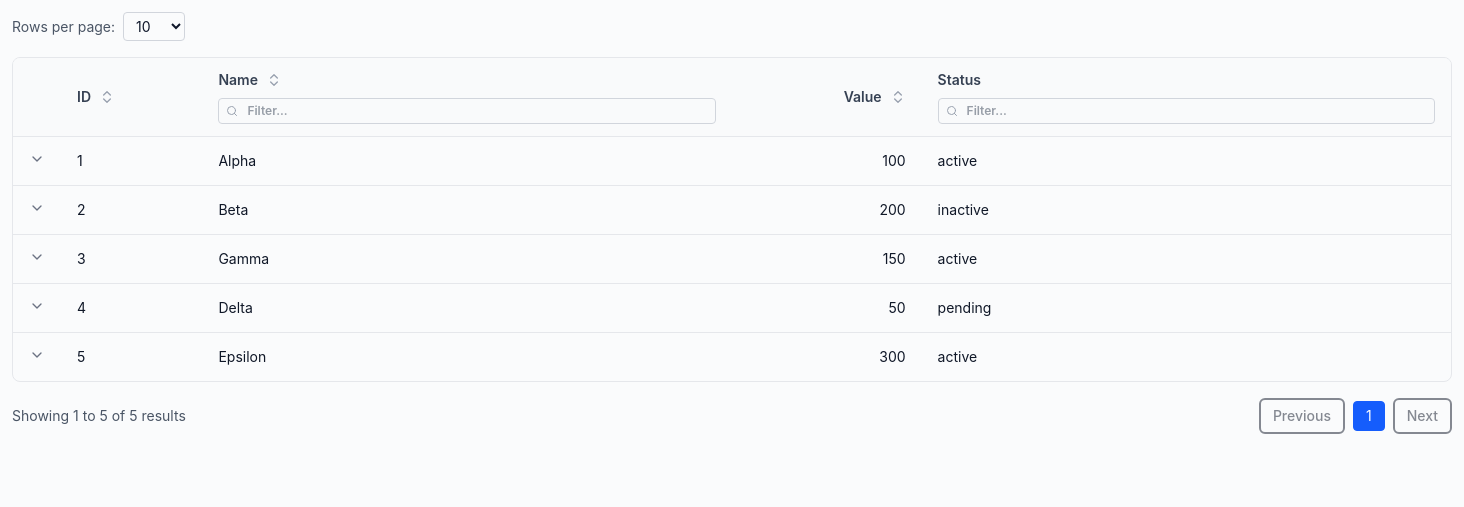
DataTable › Row Expansion › should expand row on button click
Click the button named "expand row" in the row of "Alpha": point(37, 159) [29, 151, 45, 167]
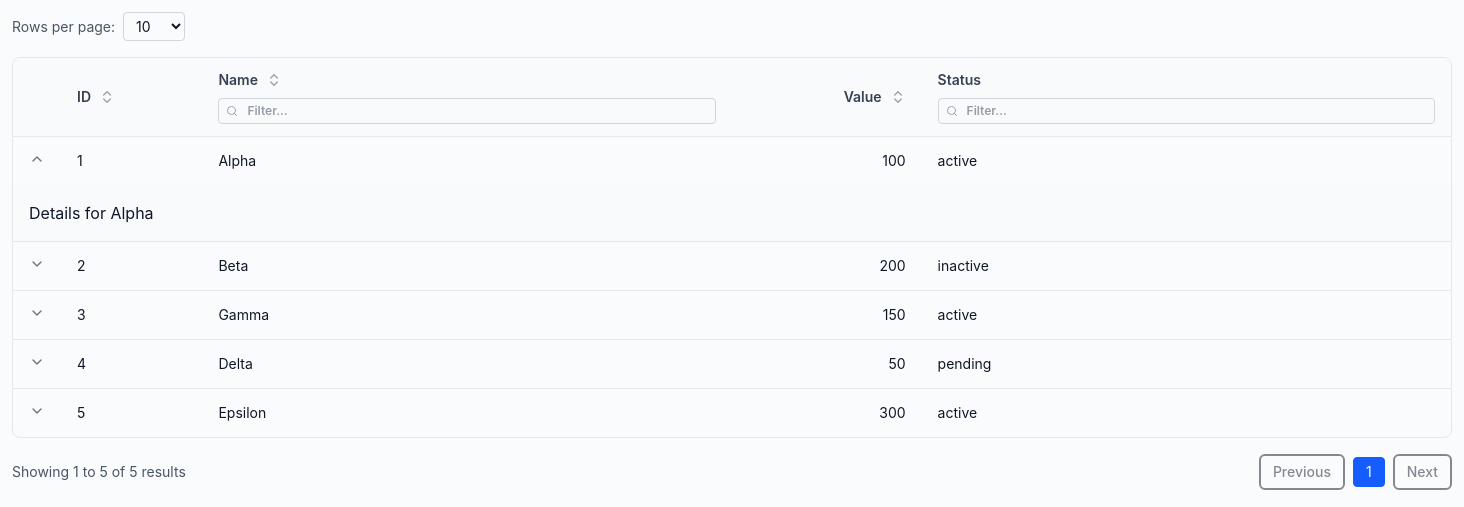
Result: the text "Details for Alpha" is shown at [29, 203, 154, 223]
